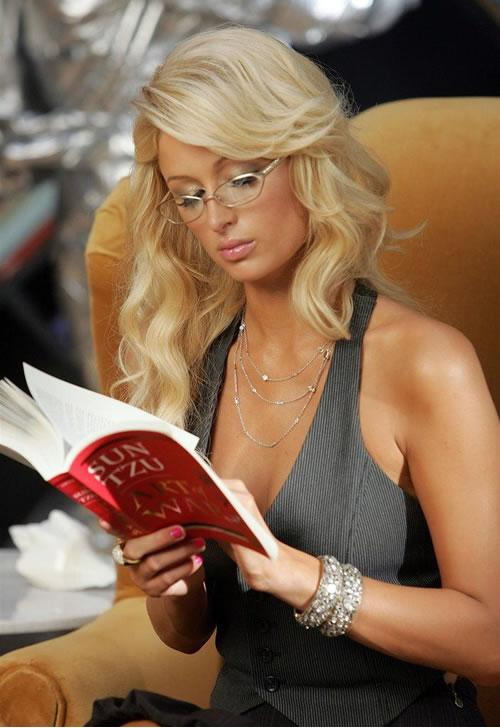person: (113, 27, 500, 728)
